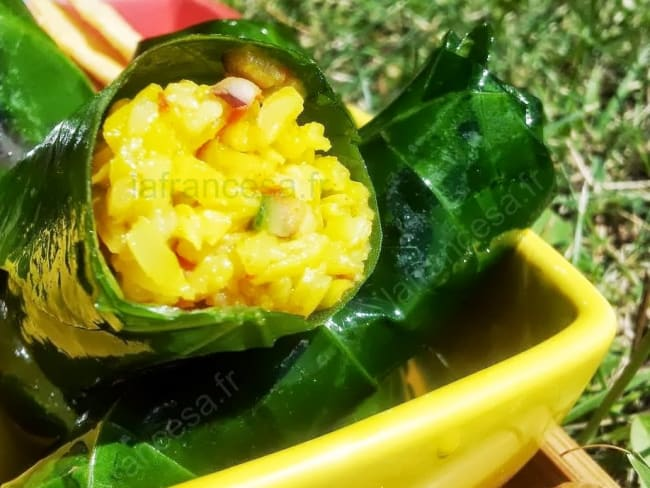concombre: (258, 208, 303, 230)
feuille de capucine: (4, 216, 136, 423)
oignon: (225, 74, 256, 112)
riz: (128, 112, 245, 208)
